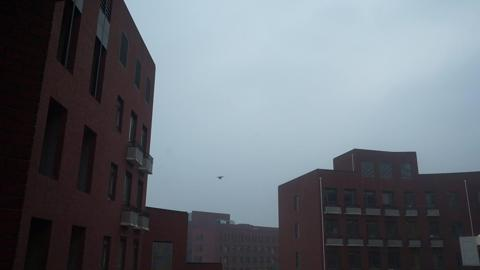UAV: (216, 176, 224, 180)
